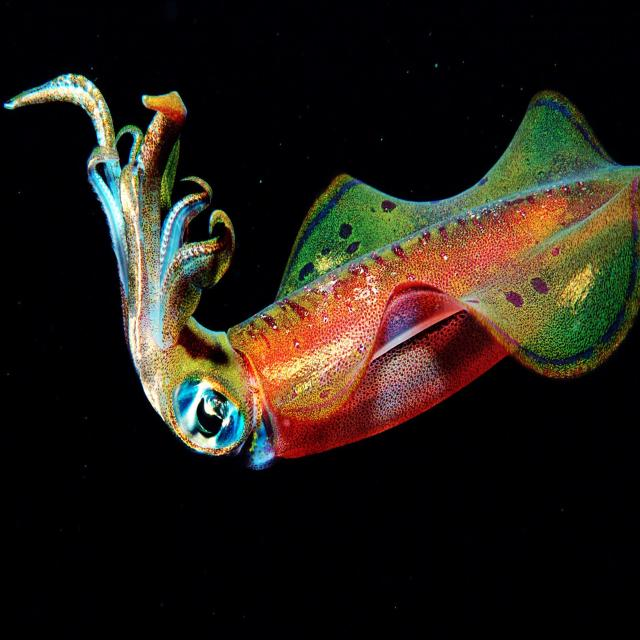SQUID: (0, 46, 640, 493)
